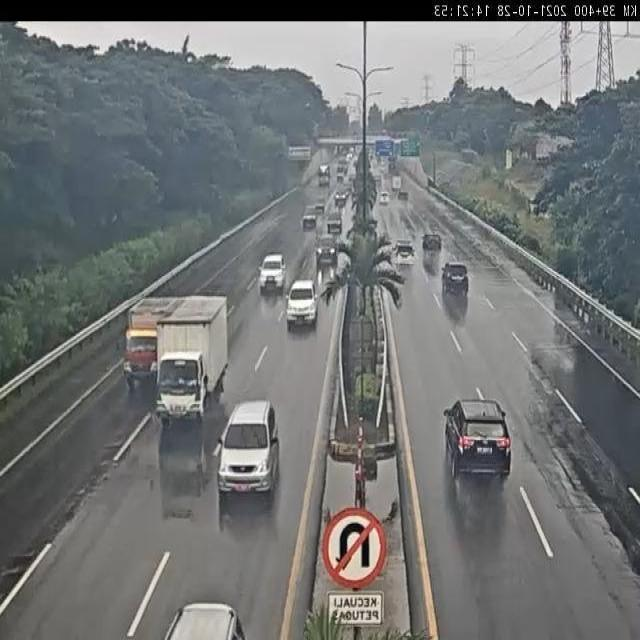Car: (439, 384, 518, 488), (217, 398, 280, 507), (285, 279, 318, 329), (258, 252, 287, 293), (442, 262, 469, 294), (392, 239, 416, 268), (316, 236, 338, 265), (422, 233, 442, 251), (302, 211, 317, 230)
Truck: (153, 298, 231, 441), (120, 295, 170, 391)
